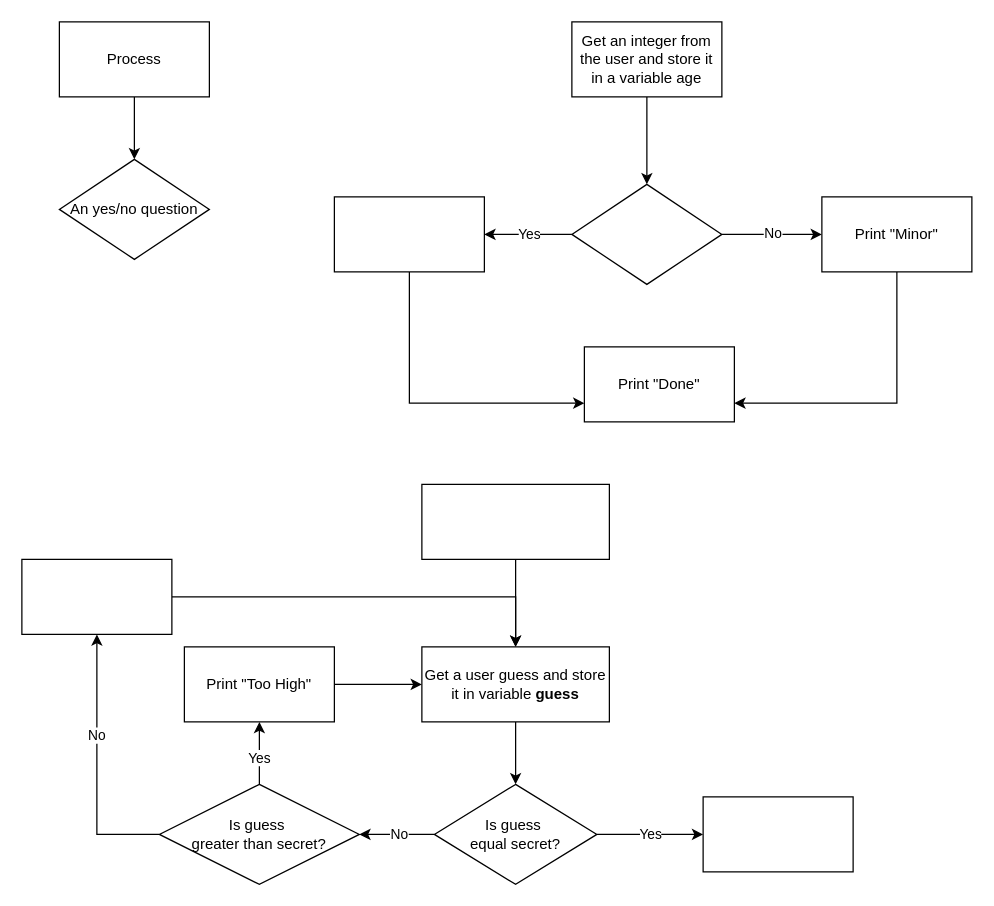
The diagram is 994 pixels wide and 906 high, and some of its shapes have lost their labels. Each missing label, with the box of its shape:
Generate a random integer in the range 1-10 and store it in a variable secret: (421, 483, 609, 559)
Is age >= 18?: (571, 183, 722, 284)
Print "Adult": (333, 196, 484, 272)
Print "Too Low": (21, 558, 172, 634)
Print "You guessed it correctly ": (702, 796, 853, 872)
